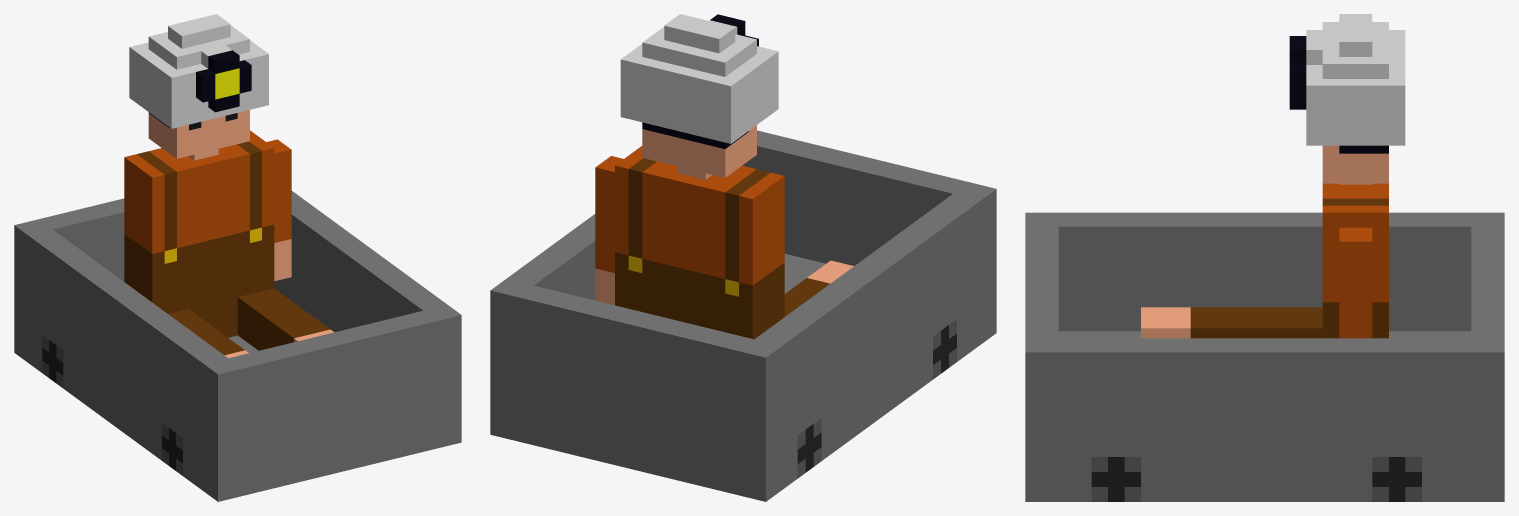
The model's file is arm2.obj.
The picture shows the model from 3 angles, left to right: view 1: azimuth 30°, elevation 25°; view 2: azimuth 150°, elevation 25°; view 3: azimuth 270°, elevation 25°; orthographic projection. The views are drawn at different scales.
Bounding box in the file's own units: 2 × 2.7 × 2.9.
1 material, 1 textured.
